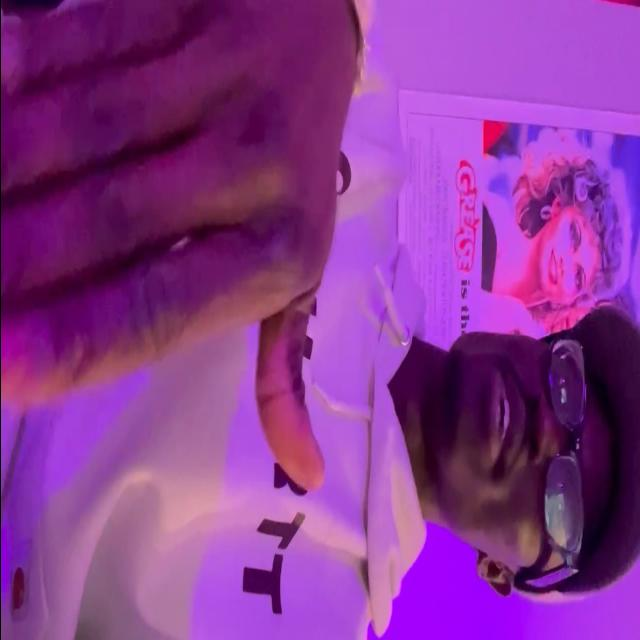Paper: (0, 0, 364, 495)
